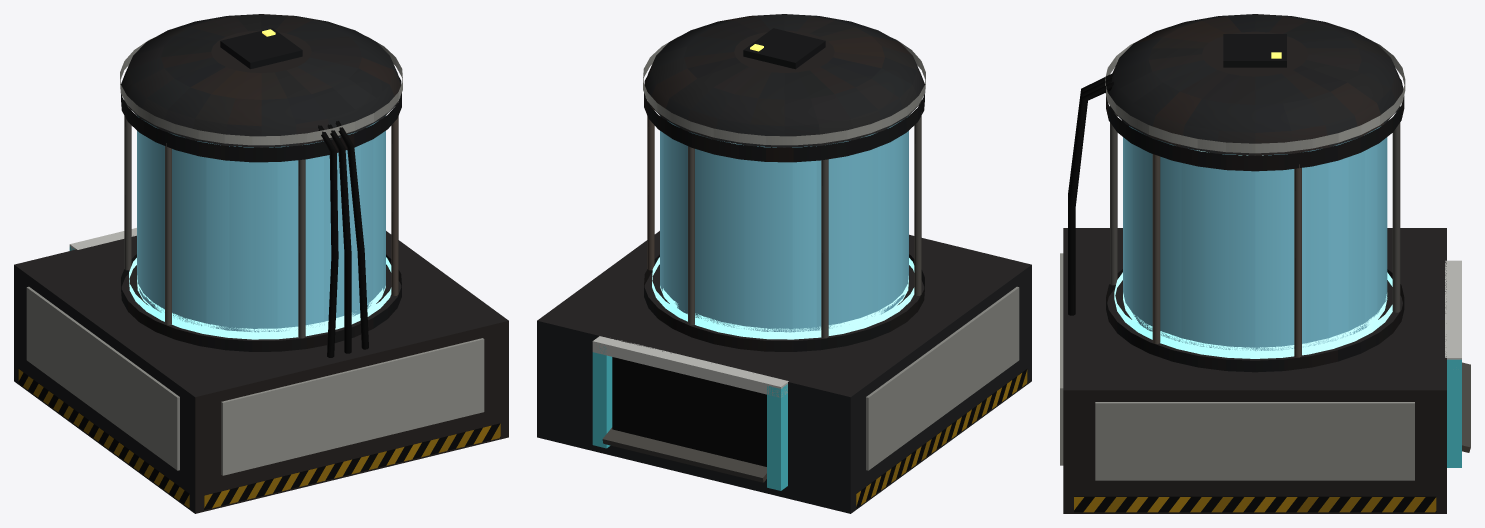
File: spawner.glb
3 views of the same model, side by side, from view 1: azimuth 30°, elevation 25°; view 2: azimuth 150°, elevation 25°; view 3: azimuth 270°, elevation 25° (orthographic). The views are drawn at different scales.
Parts seen in each view (by area): view 1: Body, Glass; view 2: Body, Glass; view 3: Body, Glass.
Part boxes in pixels (bbox=[...]): Body: bbox=[14, 14, 508, 513]; Glass: bbox=[137, 116, 385, 332]; Body: bbox=[537, 14, 1031, 513]; Glass: bbox=[660, 116, 908, 332]; Body: bbox=[1060, 14, 1470, 513]; Glass: bbox=[1123, 126, 1387, 350].
Size of the model in its own units: 1.83 by 2 by 1.93.
